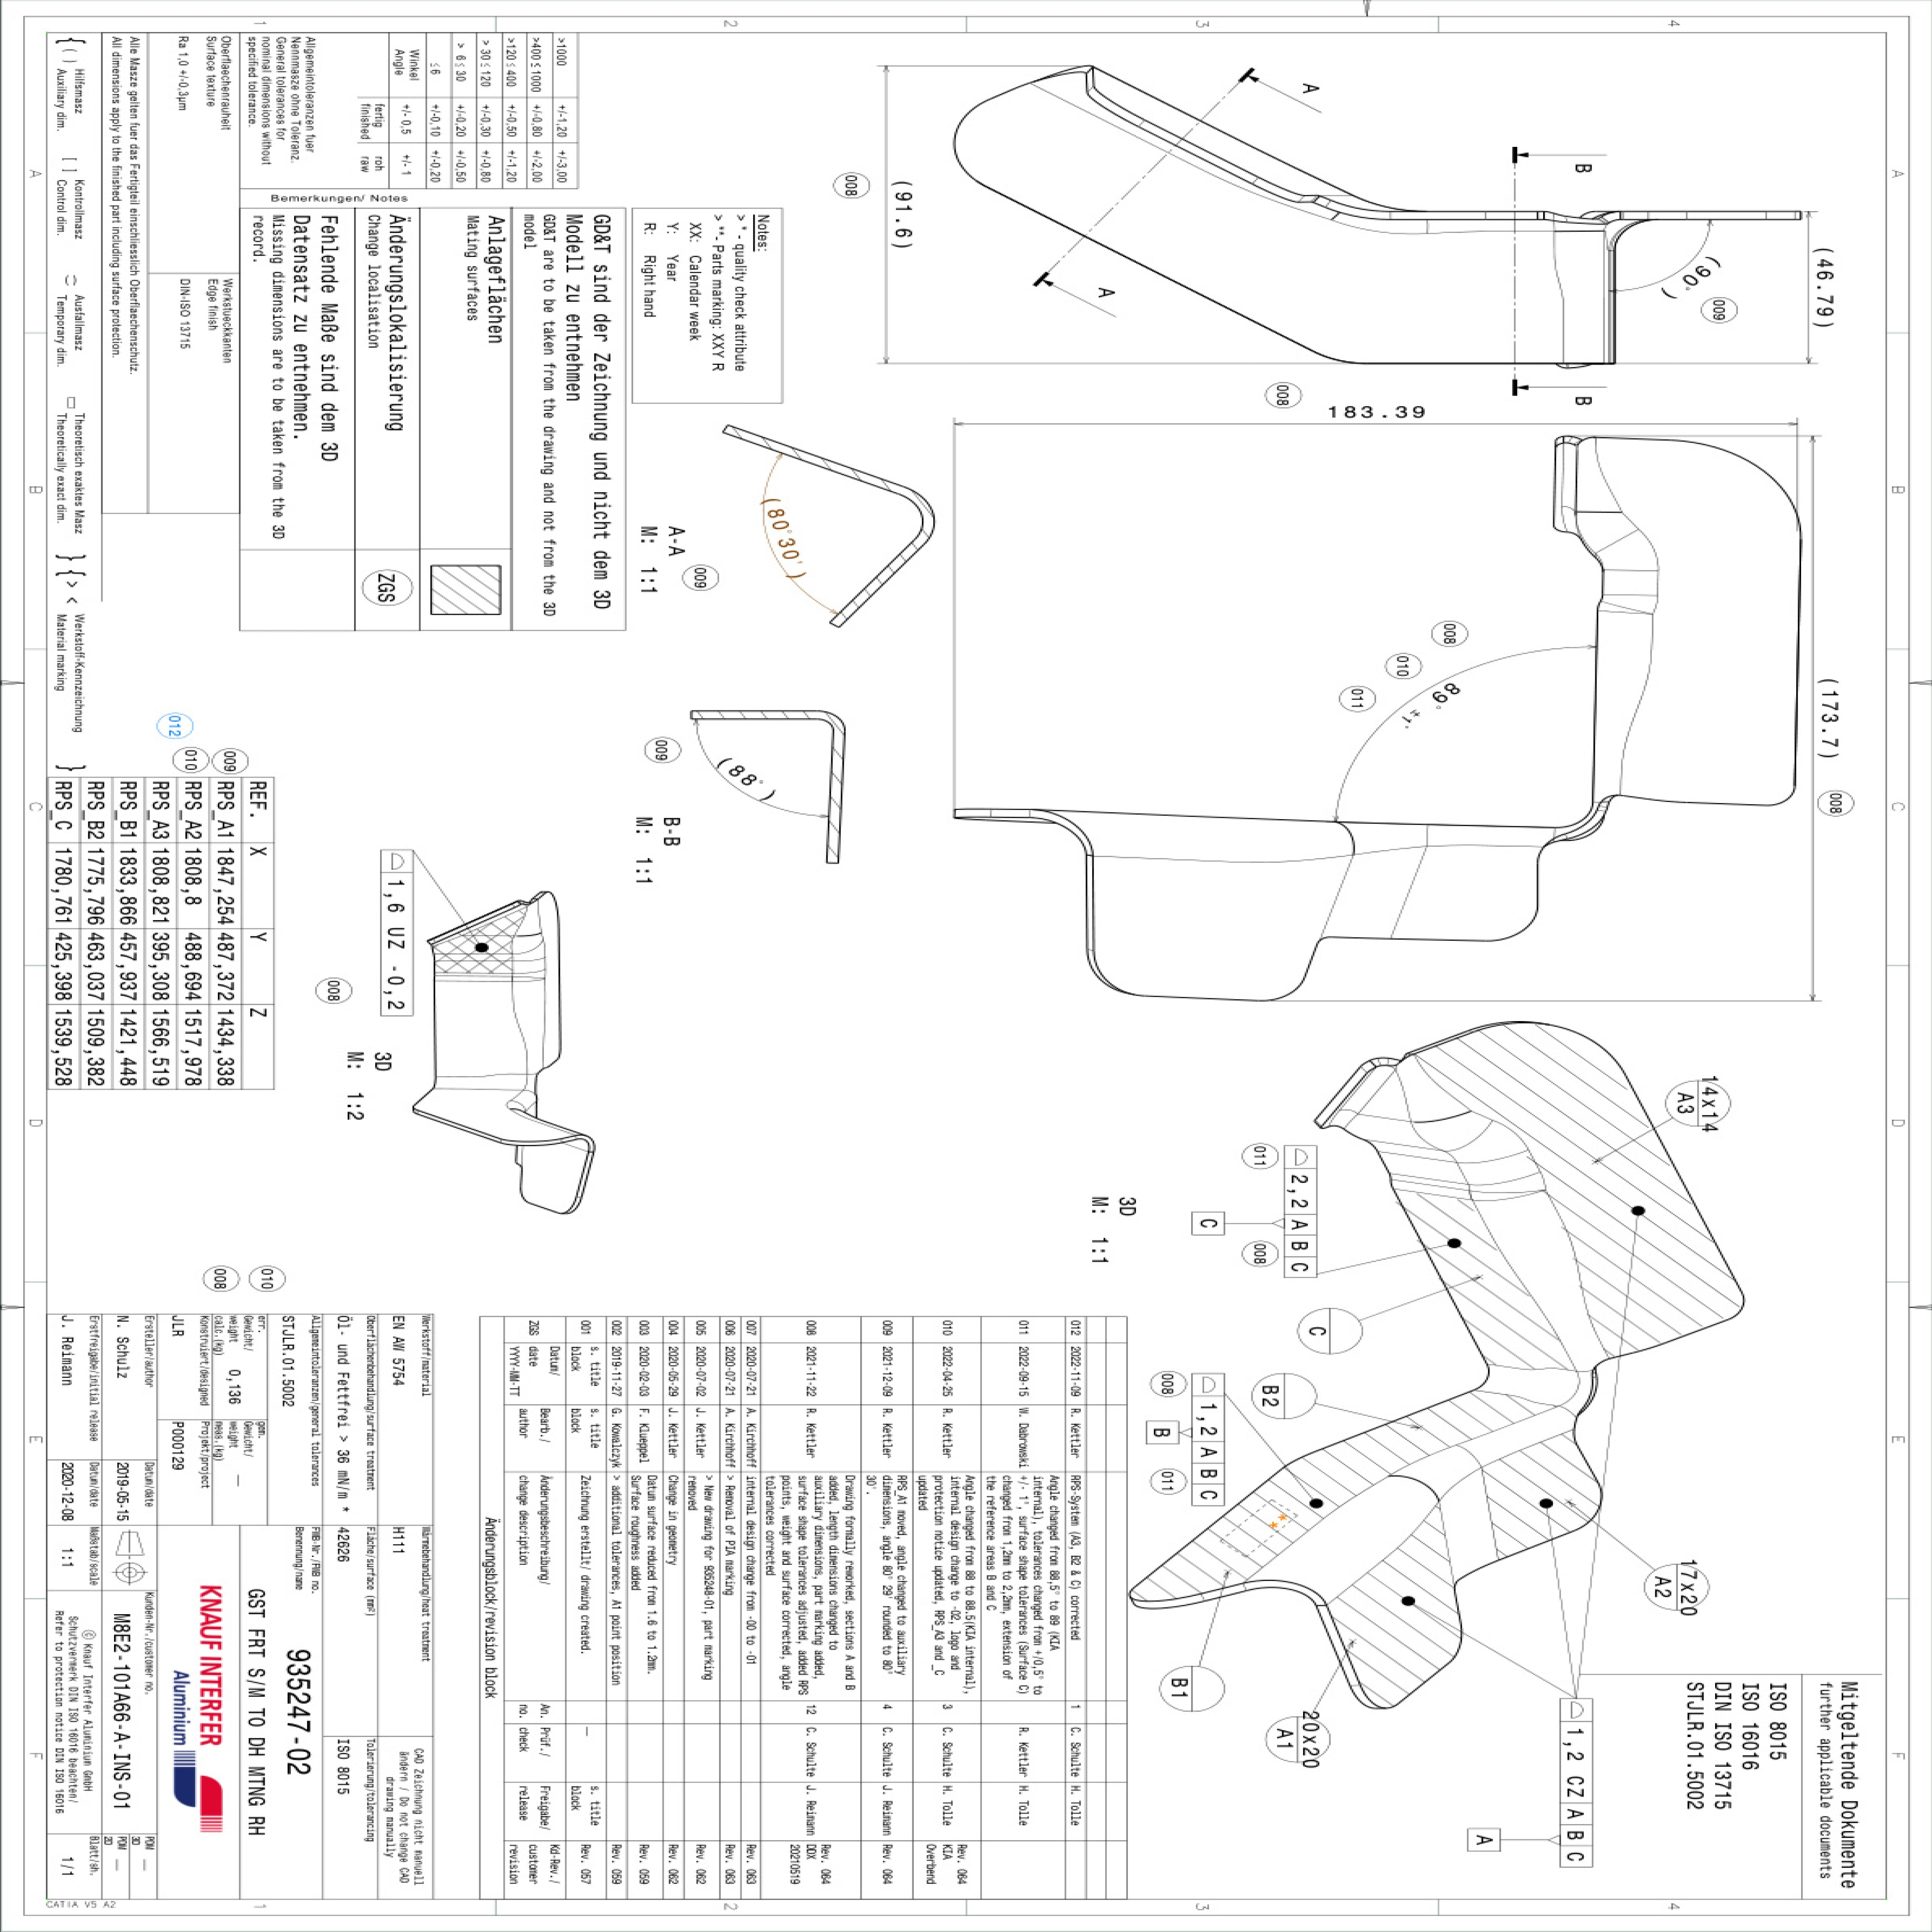BendingEdge: (1251, 1453, 1440, 1637), (1476, 1176, 1629, 1375), (1075, 812, 1354, 858), (1590, 611, 1657, 801), (1470, 1399, 1579, 1466), (1431, 1471, 1503, 1571), (1401, 1431, 1487, 1506), (1309, 1054, 1384, 1135), (1392, 1049, 1460, 1134), (1481, 1359, 1602, 1406), (1569, 493, 1640, 559), (1552, 792, 1623, 855), (1450, 1117, 1522, 1176), (1378, 1146, 1469, 1188), (1419, 1106, 1490, 1157), (1591, 529, 1658, 578), (1577, 438, 1619, 512), (1462, 1153, 1542, 1191), (1430, 827, 1551, 849), (1348, 1111, 1417, 1147), (1554, 432, 1577, 533), (1356, 821, 1425, 853), (1594, 587, 1659, 612), (1601, 567, 1658, 595), (1391, 1181, 1467, 1195), (1466, 1183, 1543, 1196), (1596, 599, 1638, 616)
